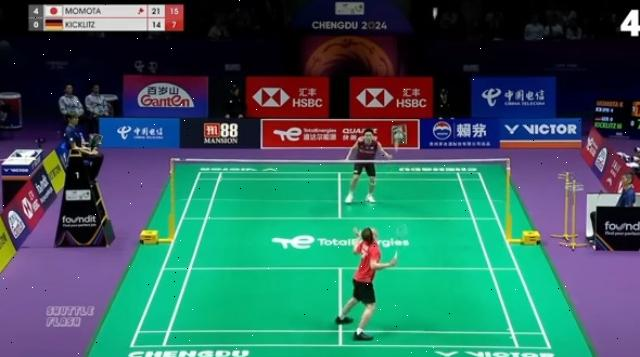Shuttlecock: (431, 6, 442, 20)
